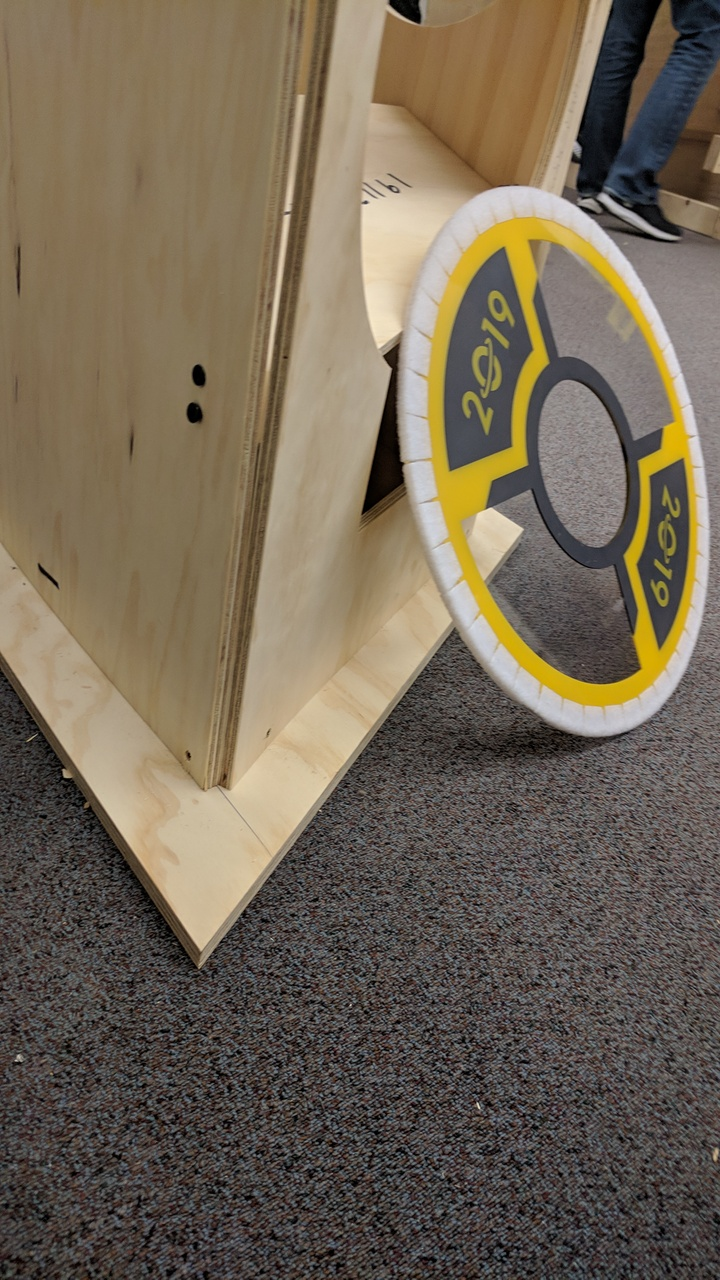hatch_panel: (390, 182, 720, 748)
